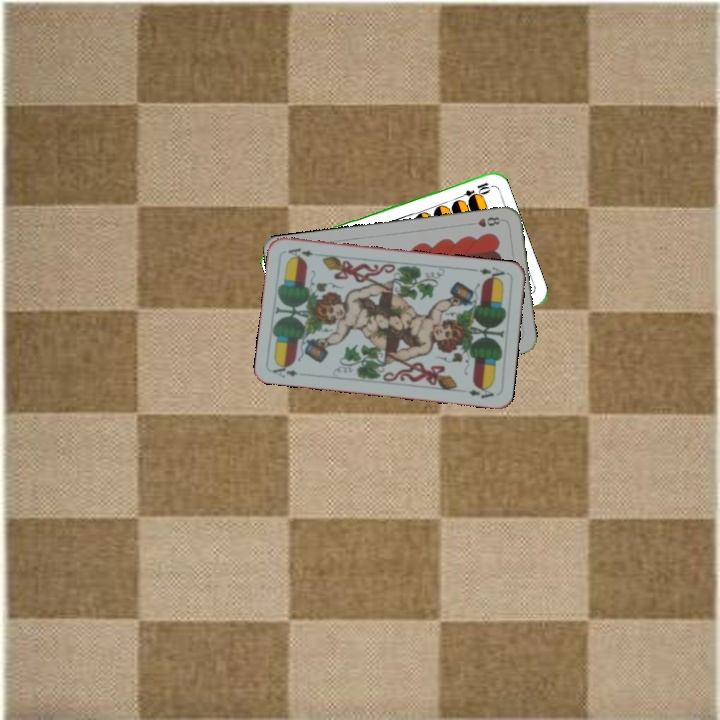E10: (453, 178, 492, 203)
EA: (469, 262, 507, 283), (269, 360, 300, 380)
H8: (465, 213, 503, 230)
